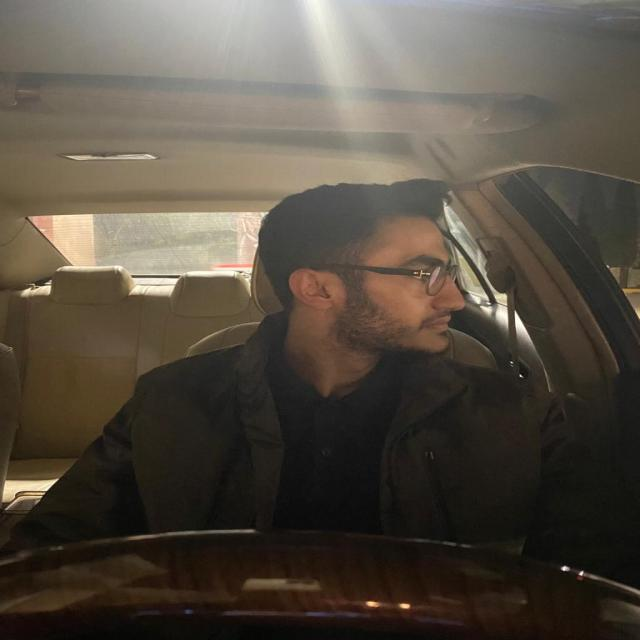LeftRight: (252, 176, 473, 364)
